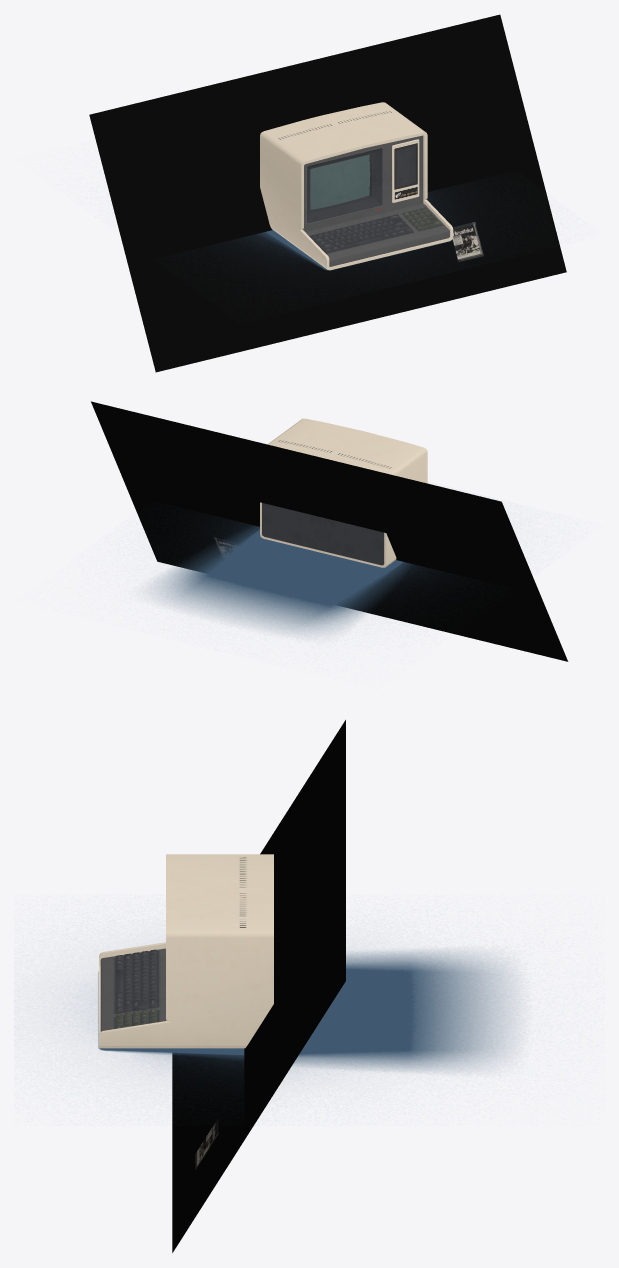
The model's file is terminal.glb.
3 renders of one model, top to bottom at view 1: azimuth 30°, elevation 25°; view 2: azimuth 150°, elevation 25°; view 3: azimuth 270°, elevation 25°, orthographic. The views are drawn at different scales.
Visible parts, largest first — view 1: Plane_BackgroundMaterial_0, Comp_Screen.000_TerminalMaterial_0, Plane_ShadowMaterial_0; view 2: Plane_BackgroundMaterial_0, Plane_ShadowMaterial_0, Comp_Screen.000_TerminalMaterial_0; view 3: Plane_BackgroundMaterial_0, Comp_Screen.000_TerminalMaterial_0, Plane_ShadowMaterial_0.
Part boxes in pixels (<box>): Plane_BackgroundMaterial_0: <box>89,14,566,372</box>; Comp_Screen.000_TerminalMaterial_0: <box>260,102,453,270</box>; Plane_ShadowMaterial_0: <box>224,189,459,270</box>; Plane_BackgroundMaterial_0: <box>91,401,568,661</box>; Plane_ShadowMaterial_0: <box>150,519,437,635</box>; Comp_Screen.000_TerminalMaterial_0: <box>260,418,427,567</box>; Plane_BackgroundMaterial_0: <box>172,720,345,1252</box>; Comp_Screen.000_TerminalMaterial_0: <box>99,854,273,1048</box>; Plane_ShadowMaterial_0: <box>82,949,519,1082</box>.
Size of the model in its own units: 5.08 by 2.47 by 4.84.
Materials: 3 (3 with a texture image).
